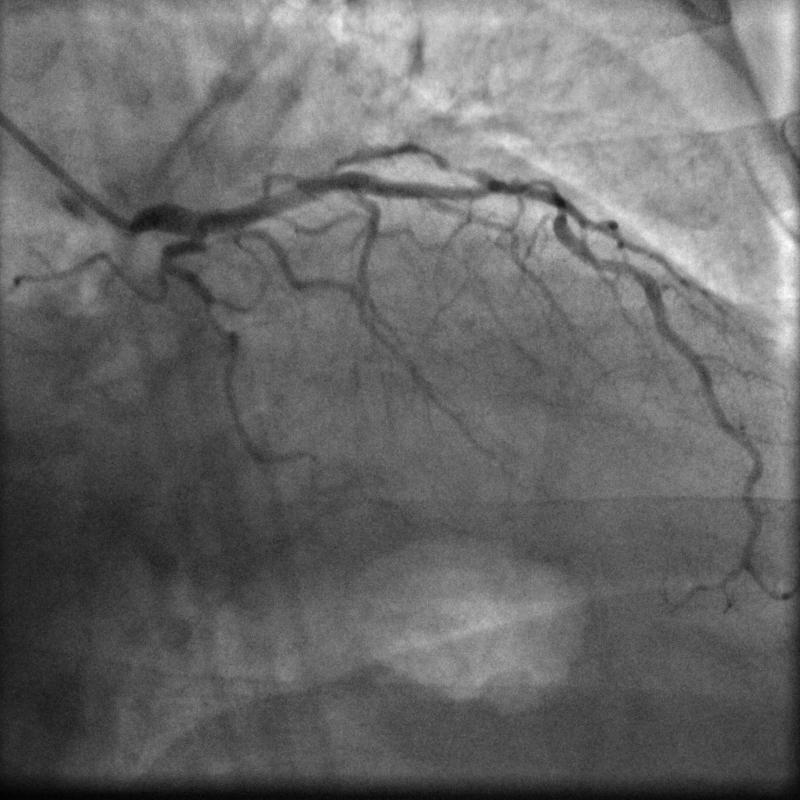Stenosis: (483, 168, 566, 212)
